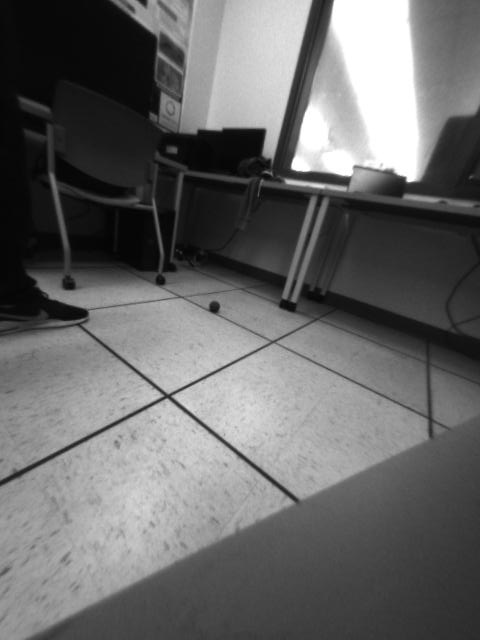dogtoy: (201, 295, 230, 319)
